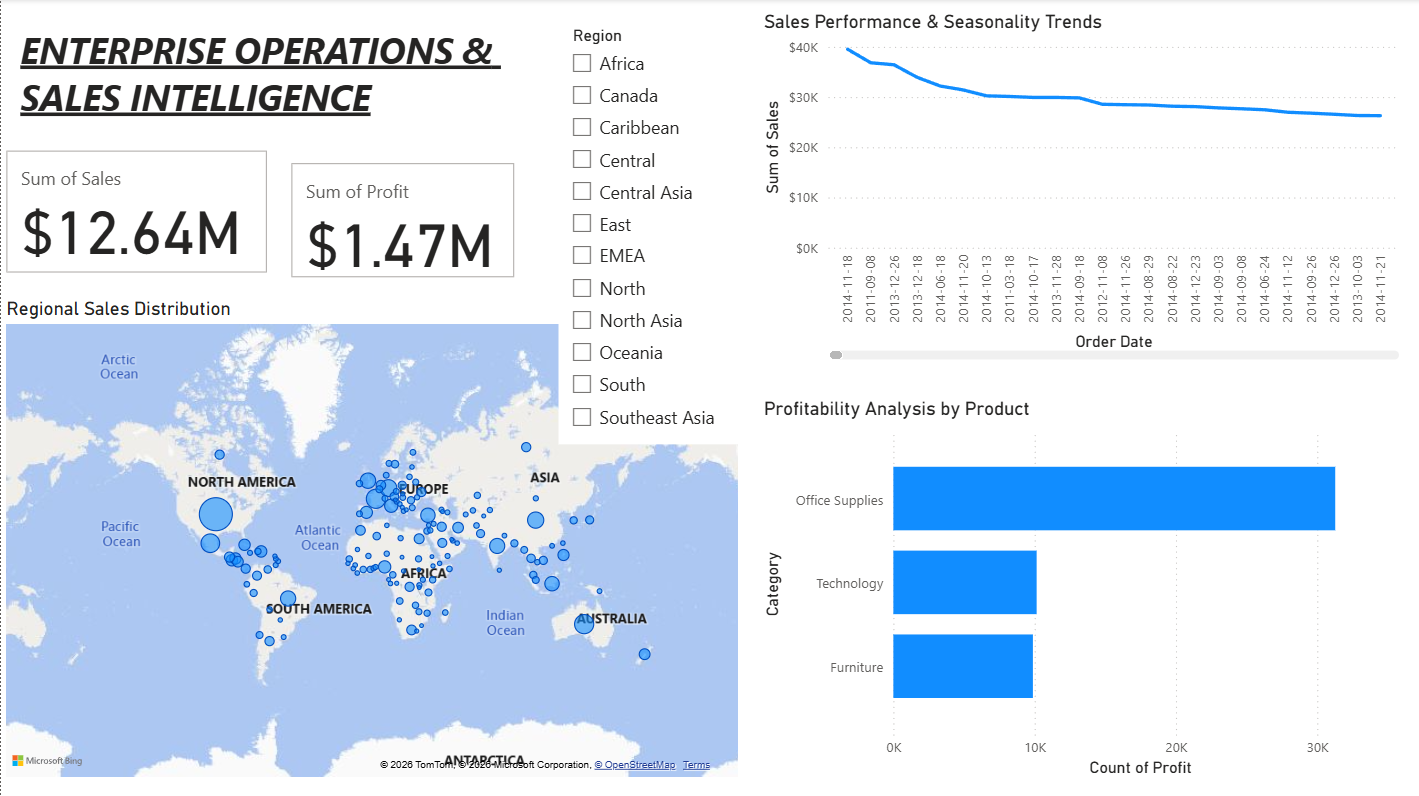

The dashboard page shown, as its layout file describes it:
{"tool":"powerbi","page":{"name":"Page 1","canvas":[1280,720],"ordinal":0},"visuals":[{"type":"map","title":"Regional Sales Distribution","fields":{"Category":["dim_geography.Country"],"Size":["CountNonNull(fact_sales.Sales)"]},"box":[0,269.4,669.5,437.3],"z":0},{"type":"clusteredBarChart","title":"Profitability Analysis by Product ","fields":{"Category":["dim_products.Category"],"Y":["CountNonNull(fact_sales.Profit)"]},"box":[683,359.6,582.7,347.2],"z":1},{"type":"cardVisual","fields":{"Data":["Sum(fact_sales.Sales)","select"]},"box":[0,131.9,245.7,120.6],"z":2},{"type":"cardVisual","fields":{"Data":["Sum(fact_sales.Profit)"]},"box":[257,143.1,211.9,113.8],"z":3},{"type":"slicer","fields":{"Values":["dim_geography.Region"]},"box":[502.7,19.2,166.8,382.1],"z":4},{"type":"lineChart","title":"Sales Performance & Seasonality Trends","fields":{"Y":["Sum(fact_sales.Sales)"],"Category":["fact_sales.Order Date"]},"box":[683,10.1,582.7,320.1],"z":5},{"type":"textbox","box":[12.4,19.2,456.5,112.7],"z":6}]}

Visuals, with their boxes in screenshot pixels (x1, y1, x2, y2), scaled from the page's 1280x720 canvas onto the 1419x796 screenshot:
"Regional Sales Distribution" map: <bbox>0, 298, 742, 781</bbox>
"Profitability Analysis by Product " clusteredBarChart: <bbox>757, 398, 1403, 781</bbox>
cardVisual - Sum(fact_sales.Sales) x select: <bbox>0, 146, 272, 279</bbox>
cardVisual - Sum(fact_sales.Profit): <bbox>285, 158, 520, 284</bbox>
slicer - dim_geography.Region: <bbox>557, 21, 742, 444</bbox>
"Sales Performance & Seasonality Trends" lineChart: <bbox>757, 11, 1403, 365</bbox>
textbox: <bbox>14, 21, 520, 146</bbox>
